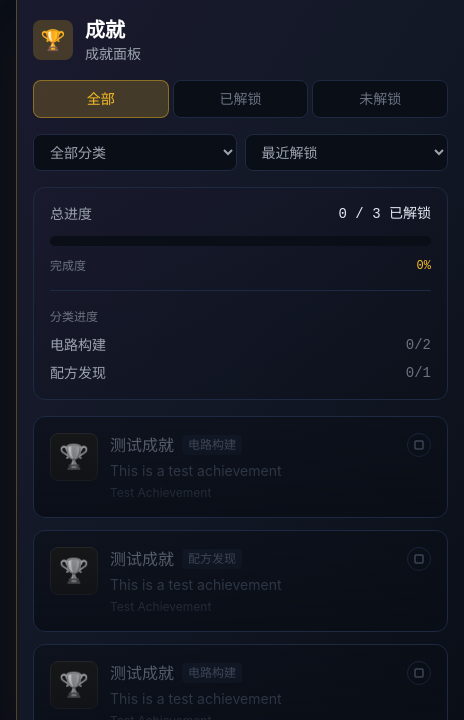
Test: AchievementPanel Component › AC-181-002: AchievementPanel filtering works › category filter limits displayed achievements
Select circuit-building category
Select "电路构建" in the dropdown with test id "achievement-category-filter" at (135, 152), box [33,134,236,171]
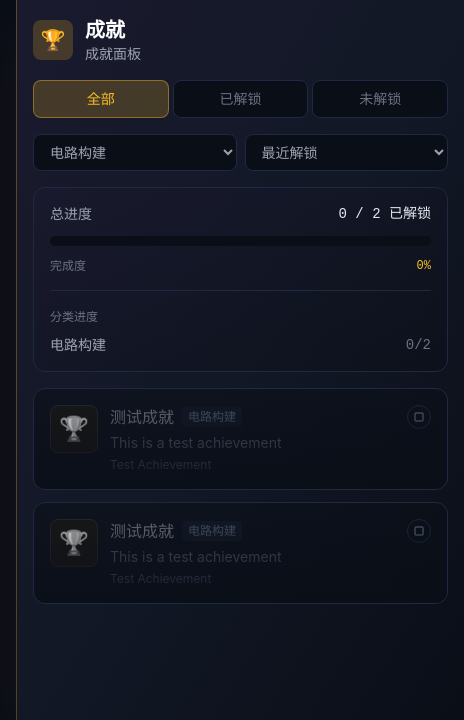
Expected: the element with test id "achievement-badge-a1" is shown, [33,388,448,490]
Expected: the element with test id "achievement-badge-a2" is gone
